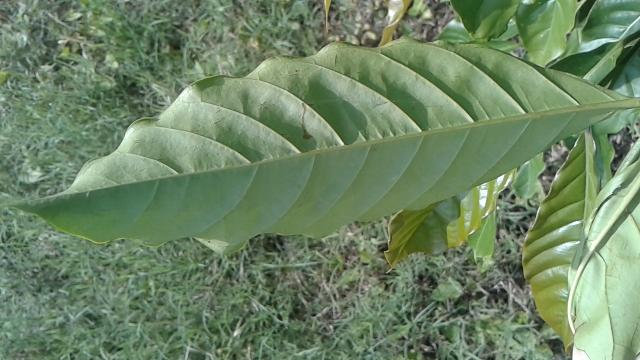rust_level_1: (16, 37, 640, 250)
